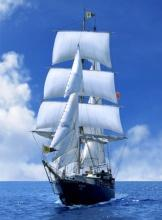fanchuan: (26, 6, 138, 206)
